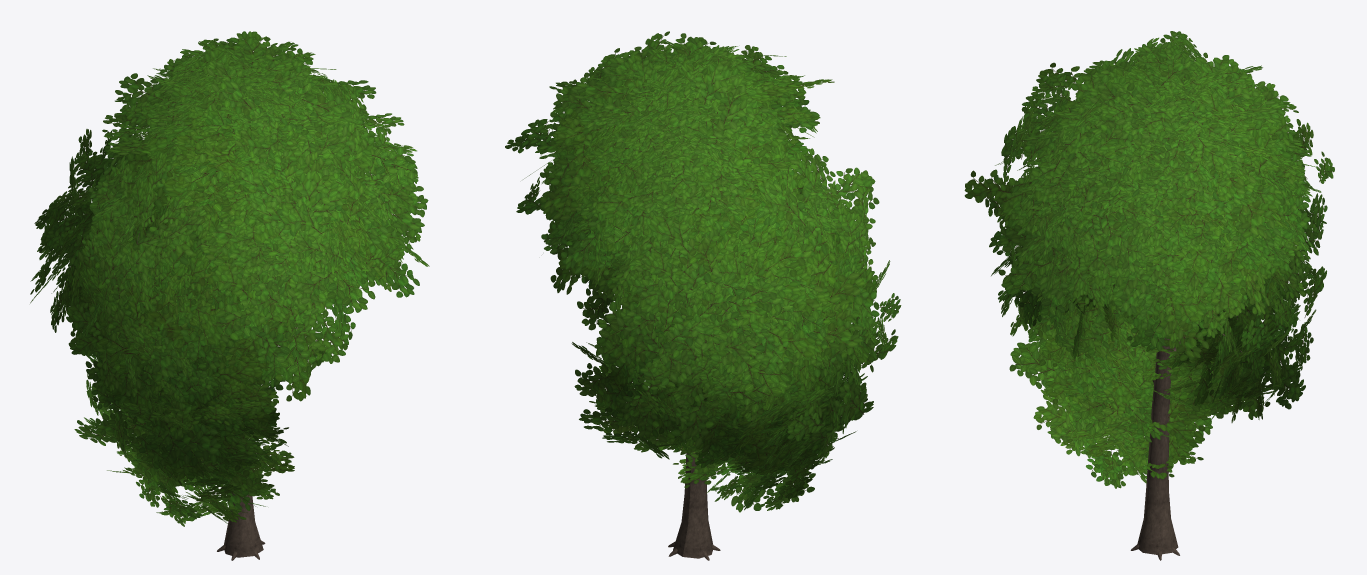
File: tree_linden.glb
The picture shows the model from 3 angles, left to right: view 1: azimuth 30°, elevation 25°; view 2: azimuth 150°, elevation 25°; view 3: azimuth 270°, elevation 25°; orthographic projection.
Visible parts, largest first — view 1: tree_linden; view 2: tree_linden; view 3: tree_linden.
Part boxes in pixels (left/top/right/bottom): tree_linden: left=30, top=31, right=429, bottom=560; tree_linden: left=505, top=31, right=901, bottom=560; tree_linden: left=964, top=31, right=1334, bottom=560.
Bounding box in the file's own units: 13.41 × 17.53 × 12.61.
2 materials, 2 textured.
